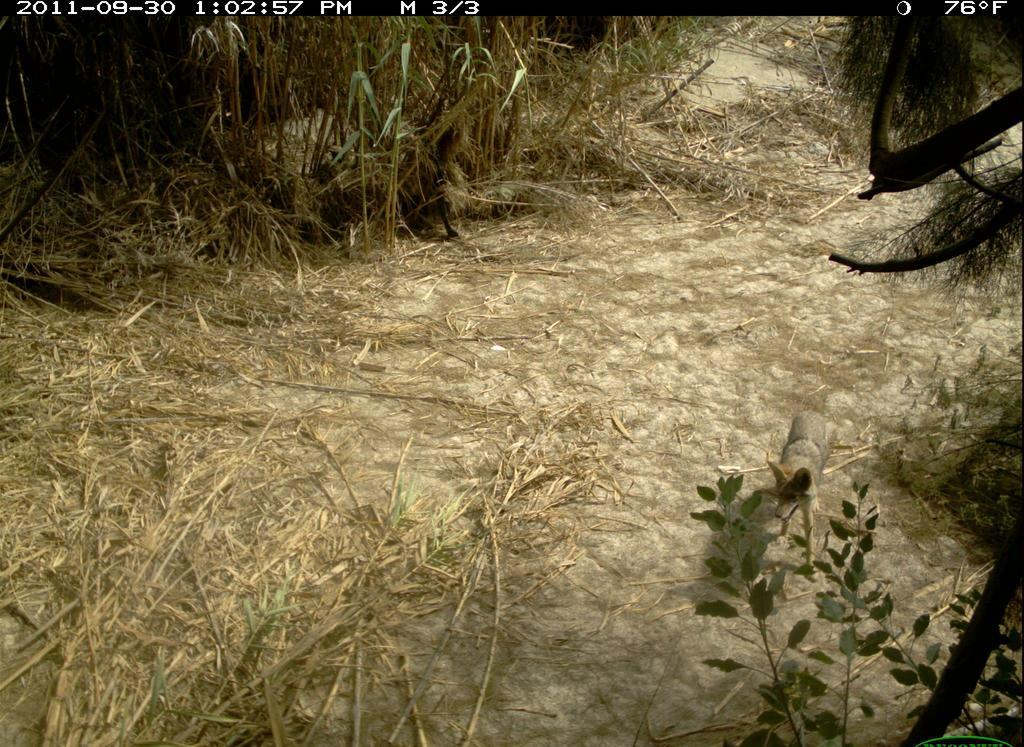coyote: (754, 404, 847, 588)
